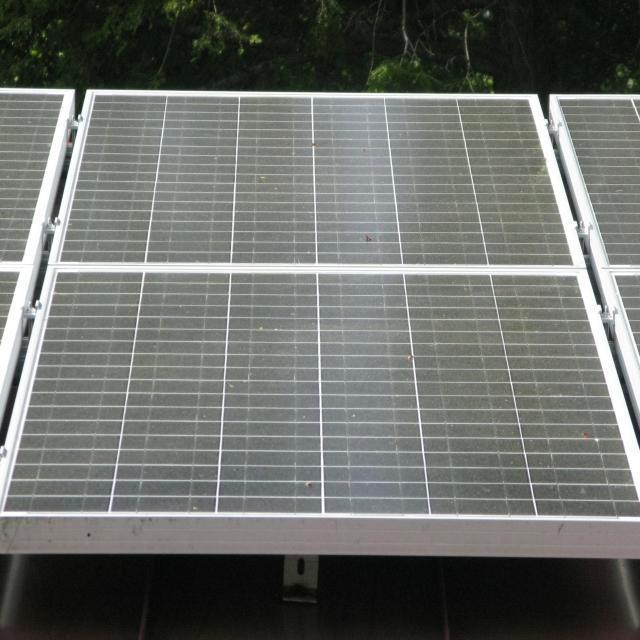no faulty: (0, 96, 640, 536)
